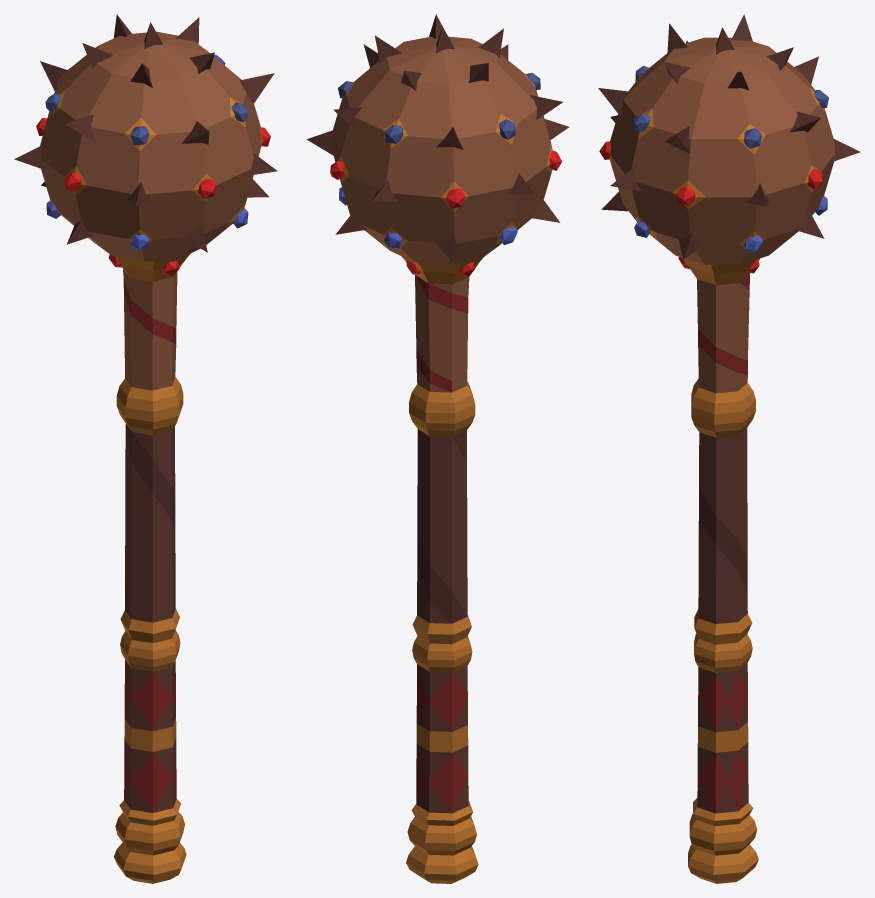
File: bulava_treasure.fbx
The picture shows the model from 3 angles, left to right: view 1: azimuth 30°, elevation 25°; view 2: azimuth 150°, elevation 25°; view 3: azimuth 270°, elevation 25°; orthographic projection.
Visible parts, largest first — view 1: bulava_treasure; view 2: bulava_treasure; view 3: bulava_treasure.
Boxes of the visible parts, box(x1,y1,x2,y2) form: bulava_treasure: box(14, 14, 277, 883); bulava_treasure: box(306, 14, 569, 883); bulava_treasure: box(598, 14, 860, 883).
Bounding box in the file's own units: 0.1614 × 0.5731 × 0.1612.
